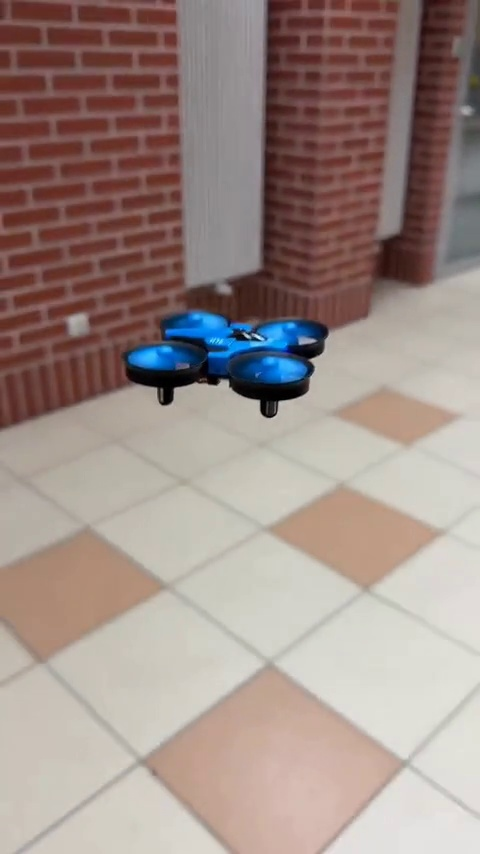drone: (125, 315, 324, 421)
